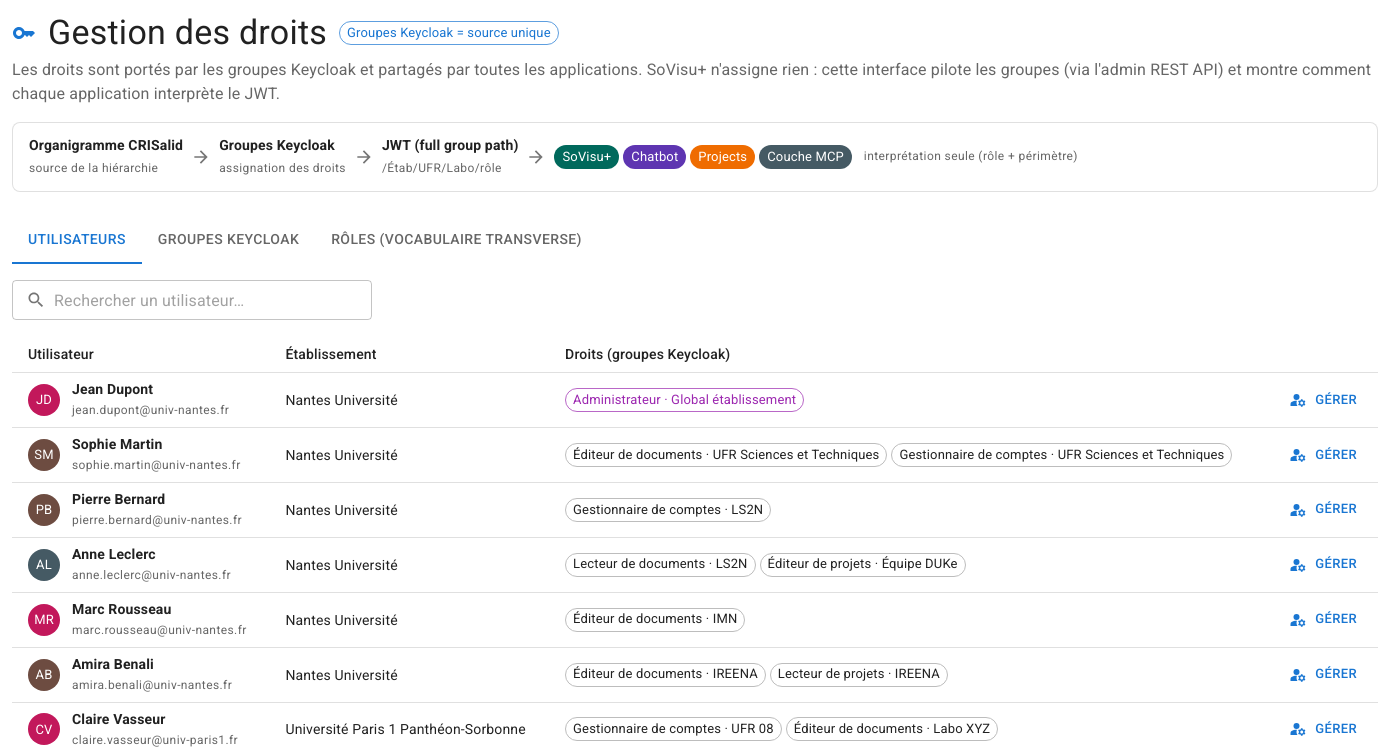
Test: RightsPage › affiche le vocabulaire de rôles transverse
This screenshot has width=1378, height=754.
Click the tab "Rôles (vocabulaire transverse)" at (456, 240), box [315,216,598,264]
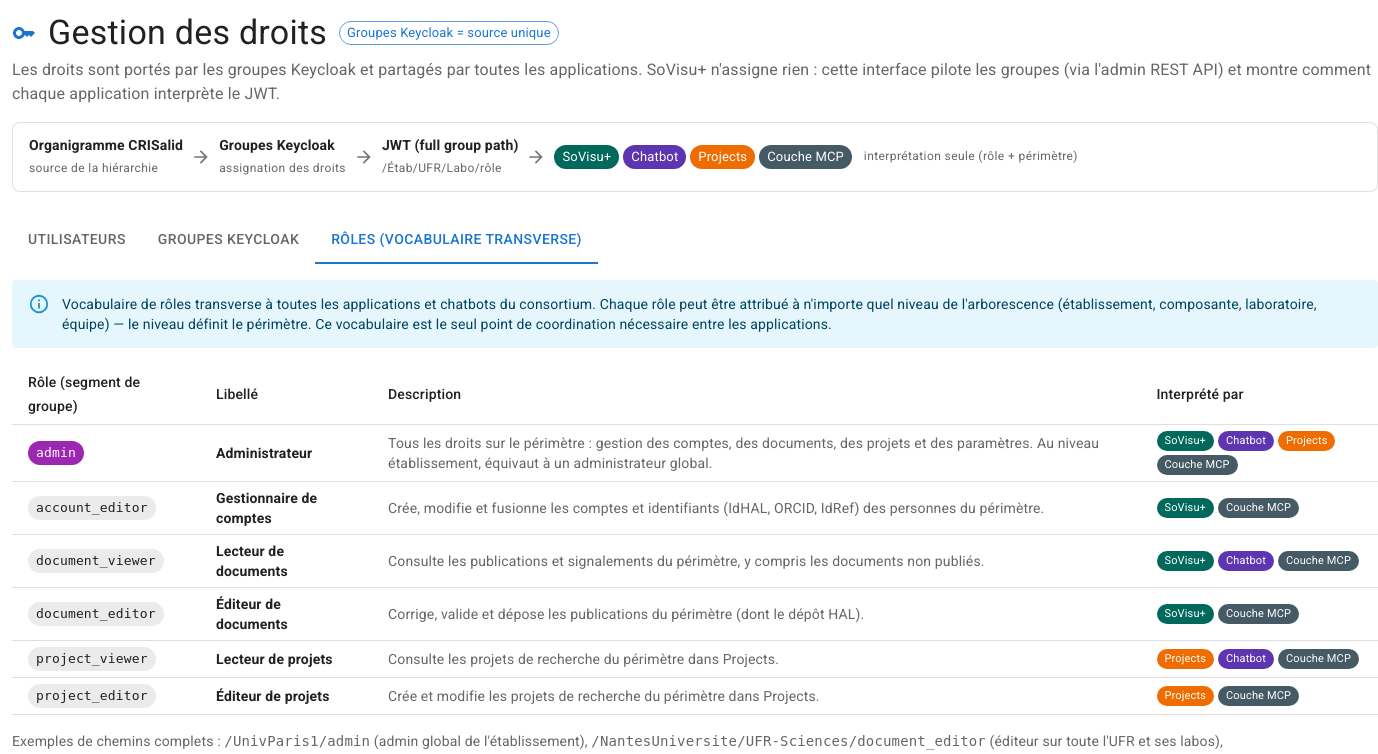
Expected: the text "Éditeur de documents" is shown, [216,596,288,632]
Now the text "project_editor" is shown, box [28,687,156,705]
